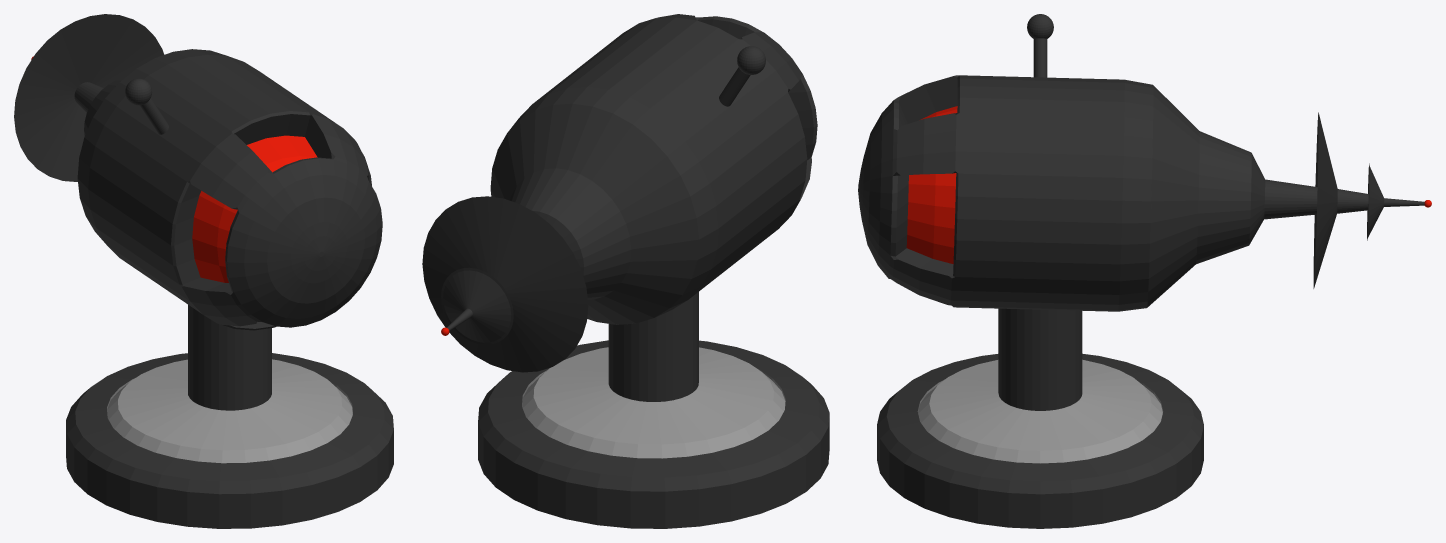
File: warmata.fbx
3 renders of one model, left to right at view 1: azimuth 30°, elevation 25°; view 2: azimuth 150°, elevation 25°; view 3: azimuth 270°, elevation 25°, orthographic. The views are drawn at different scales.
Visible parts, largest first — view 1: Cylinder.001, Cylinder.002, Cylinder.005, Cylinder.003; view 2: Cylinder.001, Cylinder.002, Cylinder.005, Cylinder.003; view 3: Cylinder.001, Cylinder.002, Cylinder.005, Cylinder.003.
Part boxes in pixels (x1,y1,x2,y2): Cylinder.001: [14, 14, 382, 330]; Cylinder.002: [66, 353, 393, 528]; Cylinder.005: [188, 305, 271, 410]; Cylinder.003: [125, 78, 168, 134]; Cylinder.001: [422, 14, 817, 372]; Cylinder.002: [478, 340, 829, 528]; Cylinder.005: [608, 292, 698, 401]; Cylinder.003: [719, 46, 765, 106]; Cylinder.001: [858, 75, 1424, 311]; Cylinder.002: [877, 353, 1203, 528]; Cylinder.005: [998, 308, 1082, 410]; Cylinder.003: [1027, 14, 1053, 77].
Size of the model in its own units: 200 by 270 by 351.
